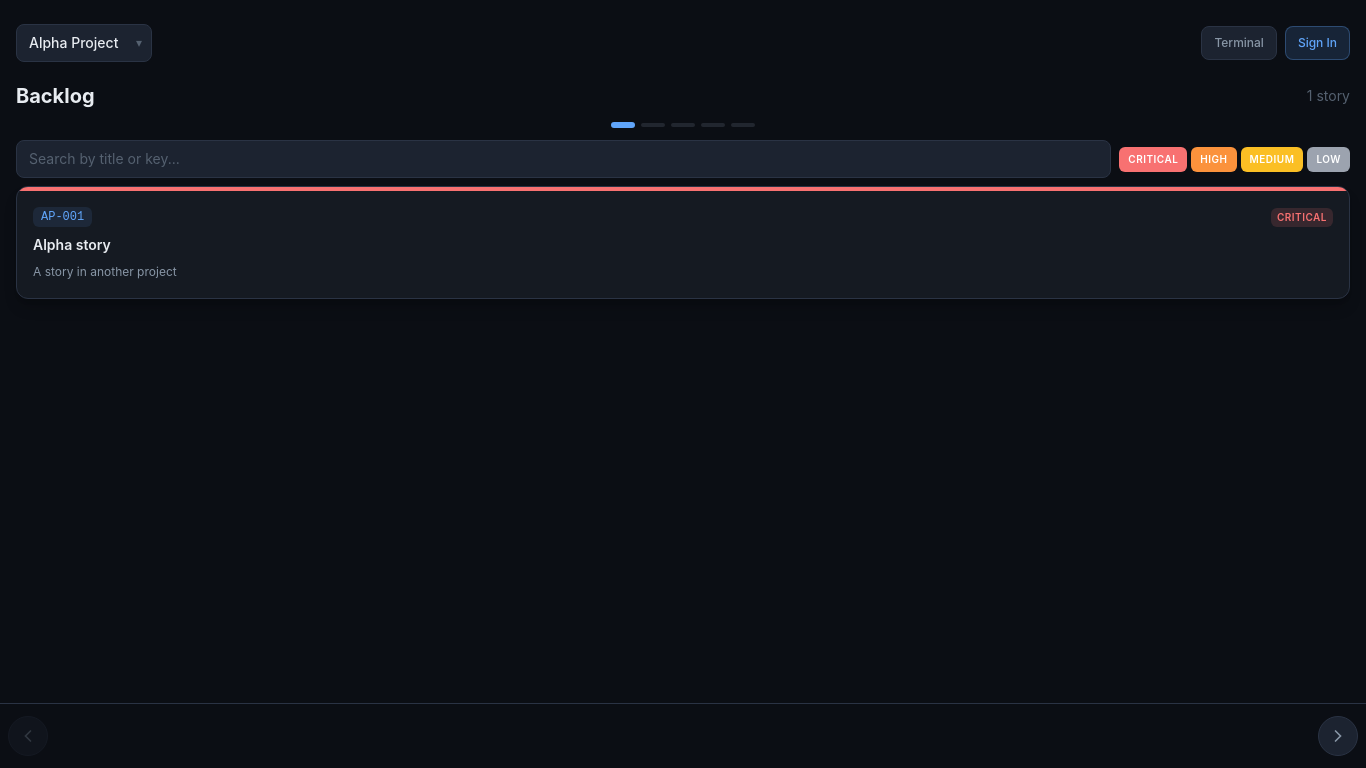
Test: BLF-002: Board loads with Backlog column › shows empty state when column has no stories
Click the button named "Done" at (743, 125), box left=731, top=123, right=755, bottom=127
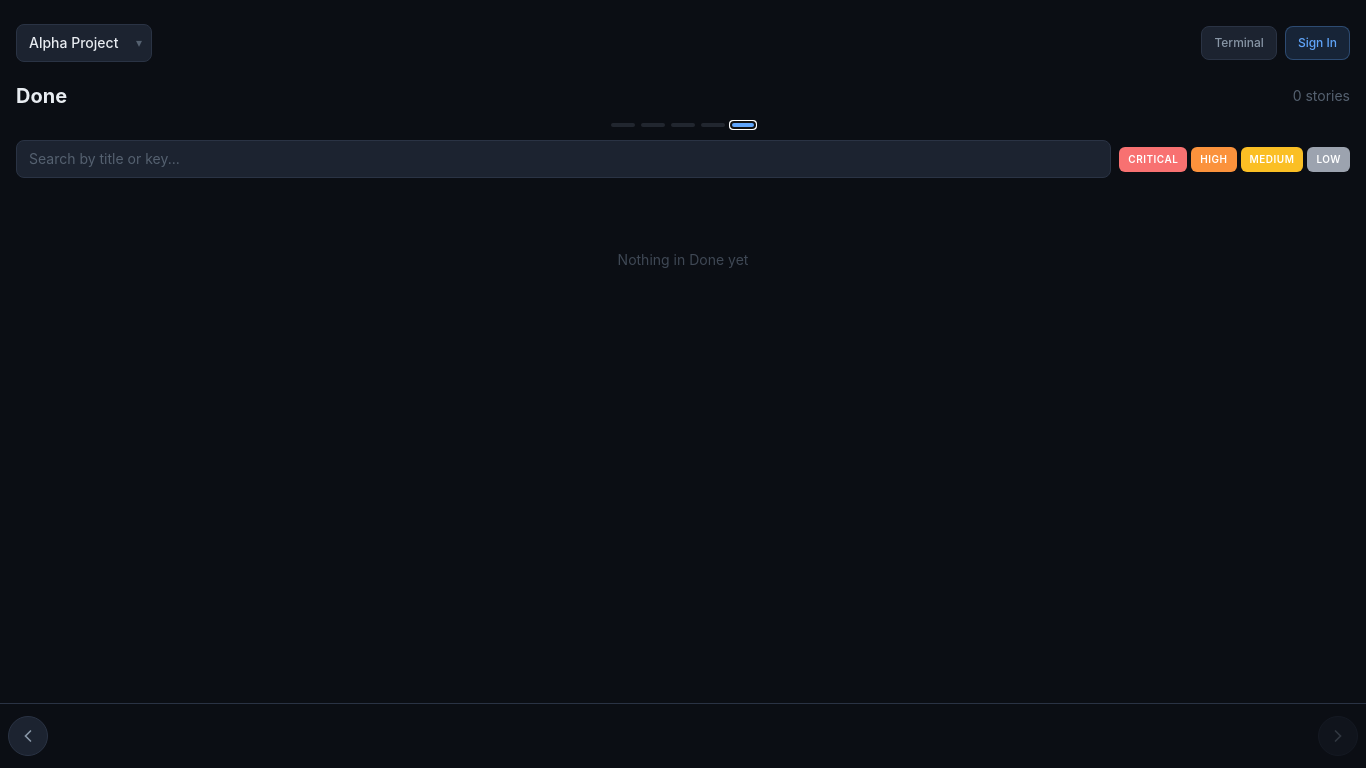
Result: the text "Nothing in Done yet" is shown at left=618, top=250, right=748, bottom=270
